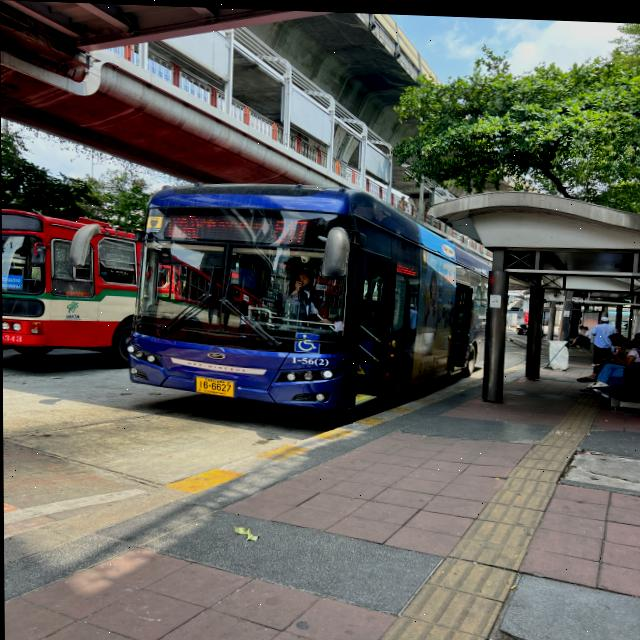BMTA-bus: (1, 207, 141, 372)
Bus Line Number: (269, 214, 310, 244)
Bus Side Number: (283, 352, 332, 366)
Destination Sign: (162, 212, 268, 244)
TSB-Bus: (120, 172, 489, 430)
